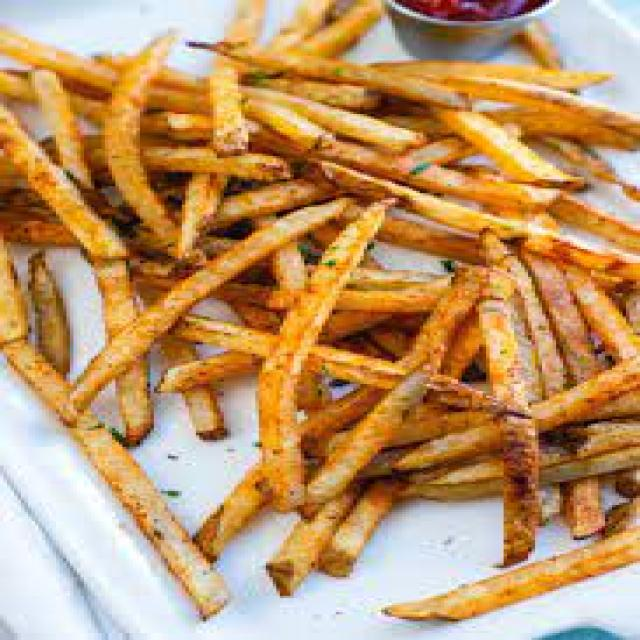Fries: (15, 32, 640, 598)
